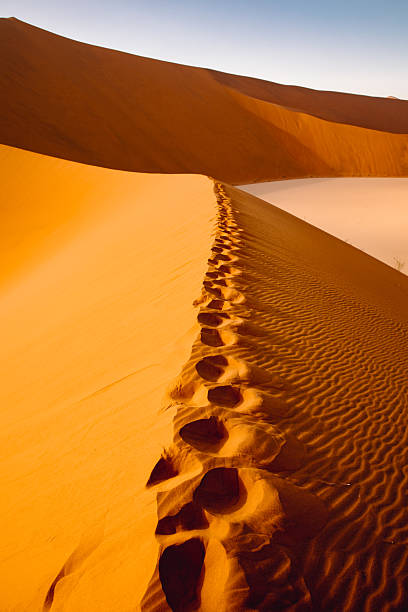human_footprint: (142, 185, 326, 610), (157, 466, 326, 610), (175, 407, 305, 472), (197, 287, 264, 337), (159, 537, 204, 611), (195, 353, 284, 388), (207, 384, 289, 418), (193, 467, 245, 512), (155, 501, 208, 534), (179, 415, 227, 451), (146, 452, 177, 486), (195, 354, 227, 381), (207, 385, 241, 406), (197, 311, 229, 327), (200, 327, 223, 346), (208, 252, 233, 264), (207, 299, 225, 309)
